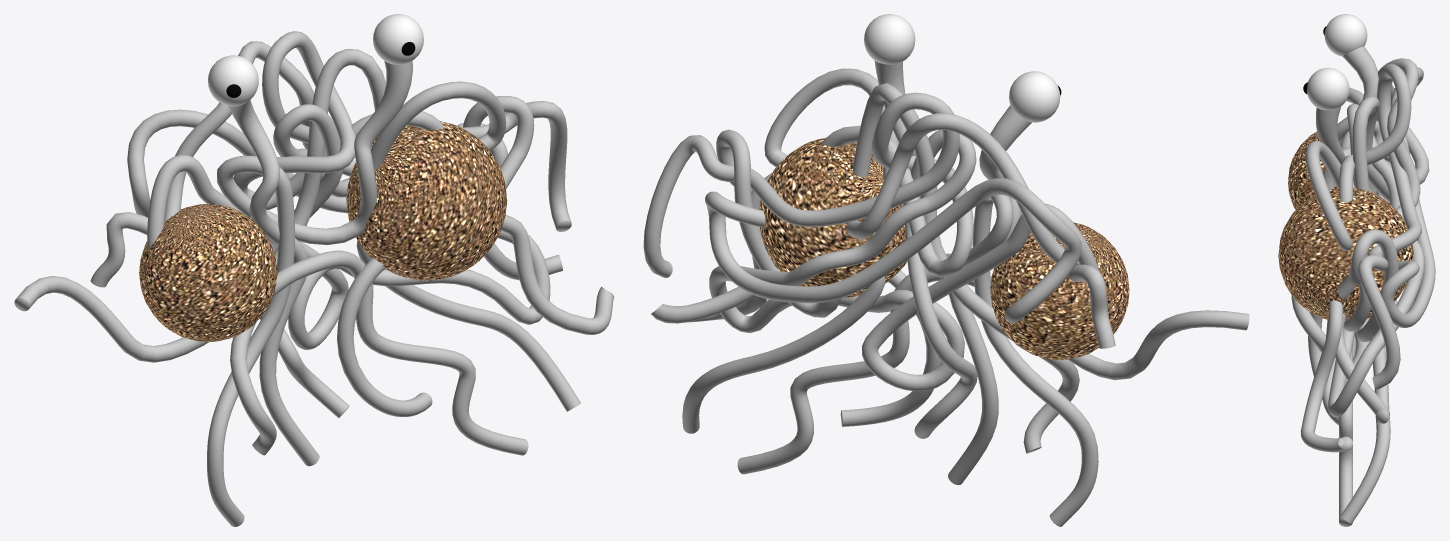
The picture shows the model from 3 angles, left to right: view 1: azimuth 30°, elevation 25°; view 2: azimuth 150°, elevation 25°; view 3: azimuth 270°, elevation 25°; orthographic projection. The views are drawn at different scales.
Visible parts, largest first — view 1: meatballLeft, meatballRite, noodle8, noodle2, noodle6, noodle1, noodle9, noodle7, noodle4, noodle5, noodle3, eyeLeft (+1 smaller); view 2: noodle9, noodle8, noodle2, meatballLeft, noodle7, meatballRite, noodle1, noodle6, noodle5, noodle3, noodle4, eyeLeft (+1 smaller); view 3: noodle2, meatballLeft, noodle7, noodle9, noodle8, noodle4, noodle3, noodle6, noodle1, eyeLeft, eyeRite, noodle5 (+1 smaller).
Part boxes in pixels (box(x1,y1,x2,y2)): meatballLeft: box(346, 121, 507, 280); meatballRite: box(139, 204, 277, 341); noodle8: box(147, 104, 550, 418); noodle2: box(233, 31, 571, 231); noodle6: box(207, 61, 412, 526); noodle1: box(14, 250, 528, 455); noodle9: box(90, 41, 507, 287); noodle7: box(230, 49, 562, 455); noodle4: box(337, 215, 614, 416); noodle5: box(228, 100, 319, 466); noodle3: box(356, 240, 580, 411); eyeLeft: box(373, 14, 423, 64); noodle9: box(705, 113, 1115, 348); noodle8: box(709, 130, 1099, 438); noodle2: box(643, 68, 973, 277); meatballLeft: box(759, 137, 907, 297); noodle7: box(654, 83, 1079, 453); meatballRite: box(990, 222, 1129, 359); noodle1: box(737, 267, 1249, 474); noodle6: box(874, 61, 1098, 526); noodle5: box(948, 105, 1031, 485); noodle3: box(682, 276, 885, 433); noodle4: box(651, 173, 941, 426); eyeLeft: box(864, 14, 915, 64); noodle2: box(1305, 64, 1421, 389); meatballLeft: box(1278, 187, 1413, 319); noodle7: box(1291, 96, 1398, 423); noodle9: box(1378, 58, 1435, 327); noodle8: box(1328, 103, 1424, 416); noodle4: box(1300, 252, 1371, 452); noodle3: box(1340, 329, 1390, 523); noodle6: box(1308, 106, 1382, 376); noodle1: box(1339, 87, 1363, 526); eyeLeft: box(1303, 67, 1349, 110); eyeRite: box(1323, 14, 1367, 56); noodle5: box(1337, 46, 1378, 358).
Bounding box in the file's own units: 5.92 × 4.55 × 1.61.
